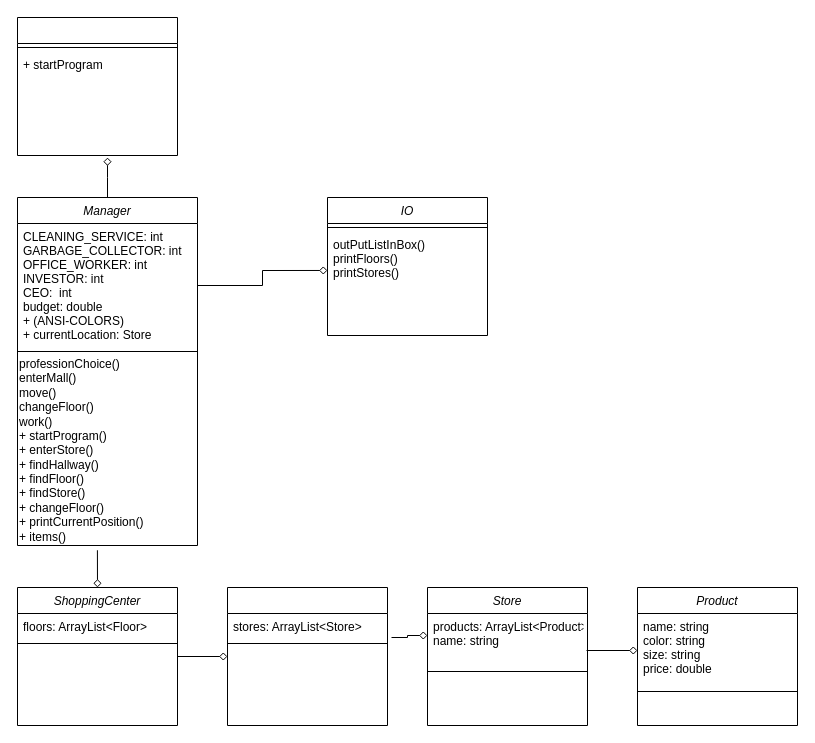
The diagram is 815 pixels wide and 743 high, and some of its shapes have lost their labels. The box of each missing label's shape, as (x1, y1, x2, y2) in pixels:
Floor: (226, 586, 388, 726)
Main: (16, 16, 178, 156)
